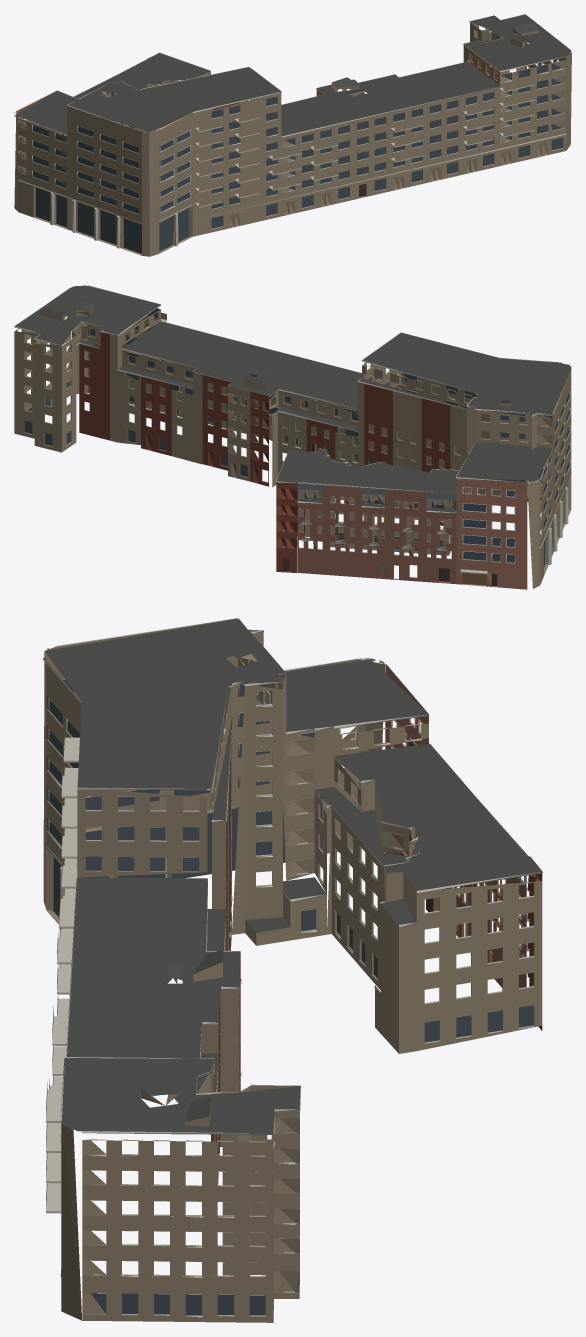
File: tweede-atjehstraat-2.lod1.glb
3 views of the same model, one above another, from view 1: azimuth 30°, elevation 25°; view 2: azimuth 150°, elevation 25°; view 3: azimuth 270°, elevation 25° (orthographic). The views are drawn at different scales.
Parts seen in each view (by area): view 1: tweede-atjehstraat-2; view 2: tweede-atjehstraat-2; view 3: tweede-atjehstraat-2.
Part boxes in pixels (<box>): tweede-atjehstraat-2: <box>14,14,571,256</box>; tweede-atjehstraat-2: <box>14,285,571,589</box>; tweede-atjehstraat-2: <box>43,618,542,1322</box>.
Size of the model in its own units: 103 by 26.16 by 45.95.
